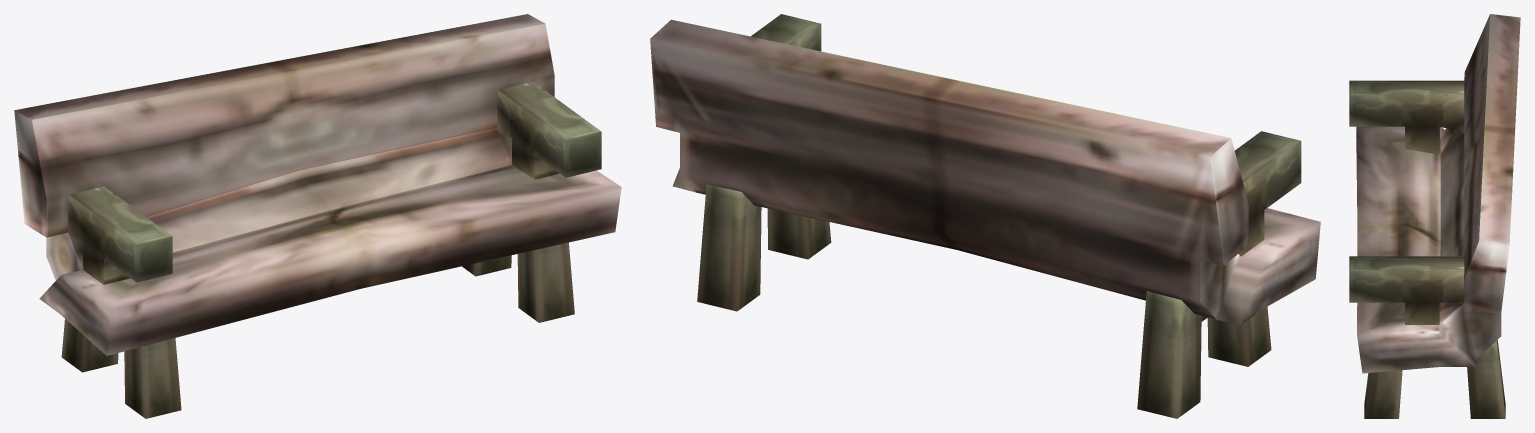
Rendered from Bench.fbx.
The picture shows the model from 3 angles, left to right: view 1: azimuth 30°, elevation 25°; view 2: azimuth 150°, elevation 25°; view 3: azimuth 270°, elevation 25°; orthographic projection. The views are drawn at different scales.
Parts seen in each view (by area): view 1: bench; view 2: bench; view 3: bench.
Boxes of the visible parts, x1=… form: bench: x1=14, y1=14, x2=621, y2=418; bench: x1=650, y1=14, x2=1320, y2=418; bench: x1=1349, y1=14, x2=1520, y2=418.
Bounding box in the file's own units: 238 × 113 × 82.33.
